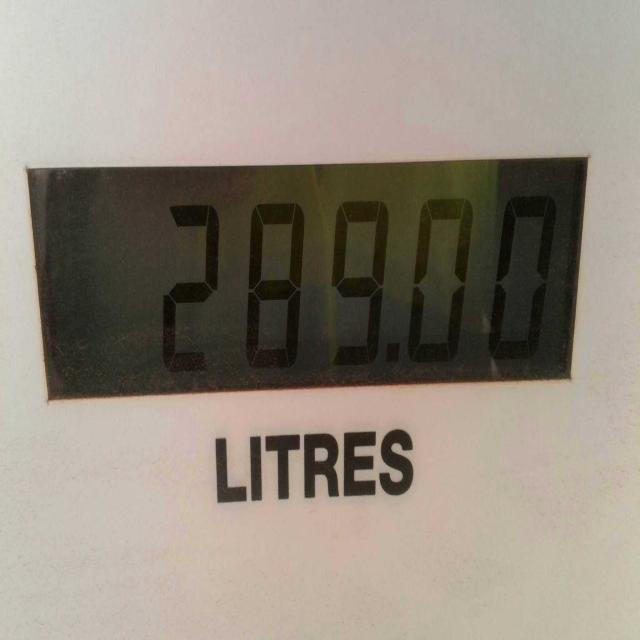.: (388, 342, 399, 366)
0: (484, 193, 552, 370), (406, 193, 470, 368)
2: (164, 208, 218, 374)
8: (247, 204, 301, 371)
9: (332, 200, 387, 367)
